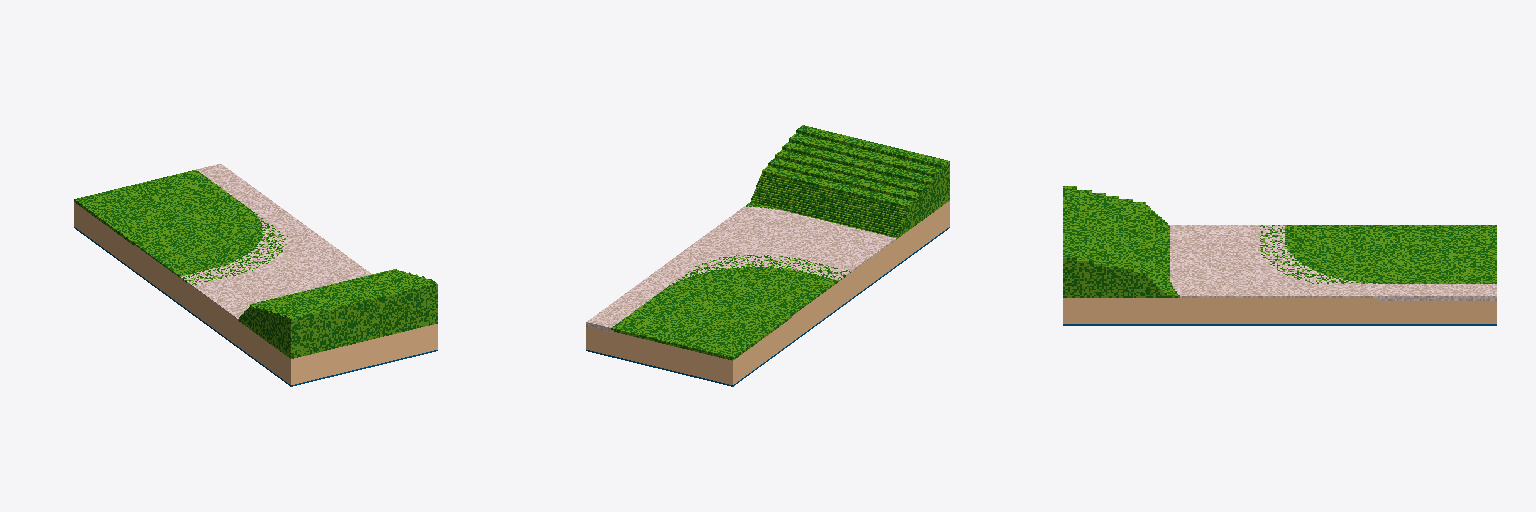
The picture shows the model from 3 angles: view 1: azimuth 30°, elevation 25°; view 2: azimuth 150°, elevation 25°; view 3: azimuth 270°, elevation 25°; orthographic projection.
Parts seen in each view (by area): view 1: object 1; view 2: object 1; view 3: object 1.
Part boxes in pixels (x1,y1,x2,y2): object 1: (74, 164, 437, 386); object 1: (586, 125, 949, 386); object 1: (1063, 186, 1496, 325).
Bounding box in the file's own units: 10 × 4.4 × 25.6.
1 materials, 1 textured.